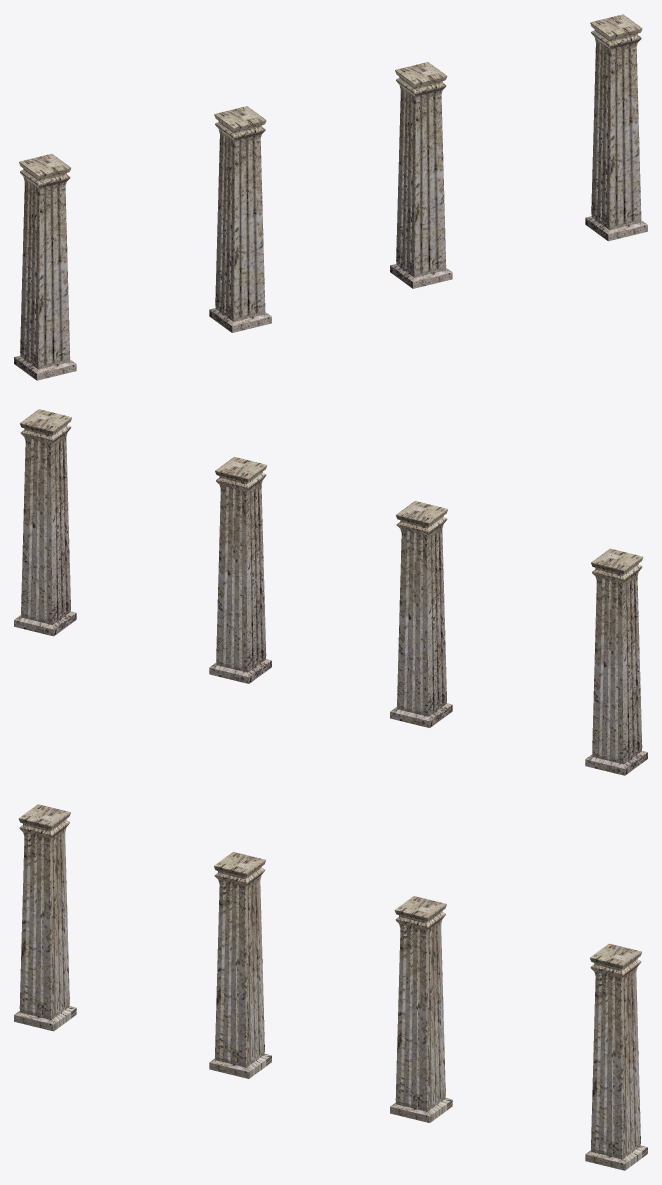
File: Ruin_Collumes.fbx
The picture shows the model from 3 angles, top to bottom: view 1: azimuth 30°, elevation 25°; view 2: azimuth 150°, elevation 25°; view 3: azimuth 330°, elevation 25°; orthographic projection.
Parts seen in each view (by area): view 1: pillars; view 2: pillars; view 3: pillars.
Part boxes in pixels (x1,y1,x2,y2): pillars: [14, 14, 647, 380]; pillars: [14, 409, 647, 775]; pillars: [14, 804, 647, 1170].
Bounding box in the file's own units: 4525 × 1438 × 295.
1 material, 1 textured.
